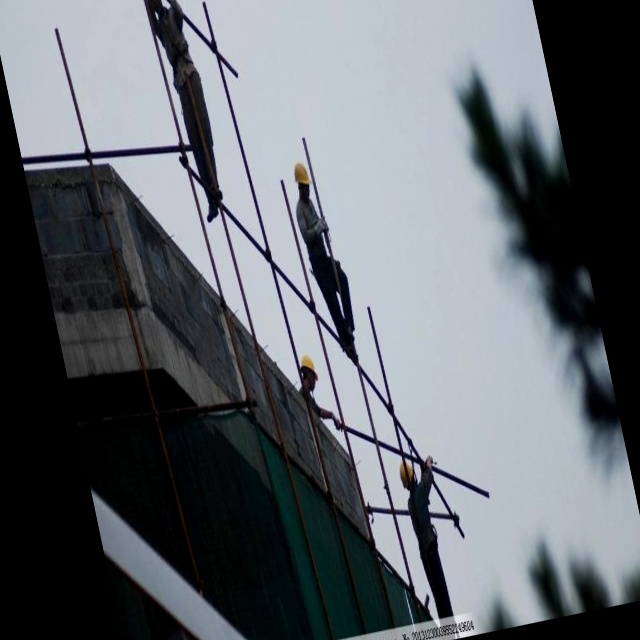Con_Casco: (291, 160, 317, 205)
